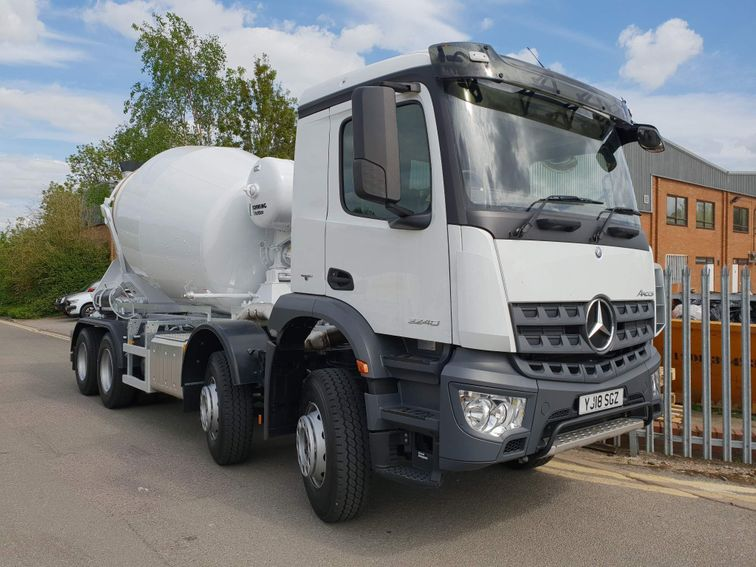Semi: (67, 41, 665, 522)
